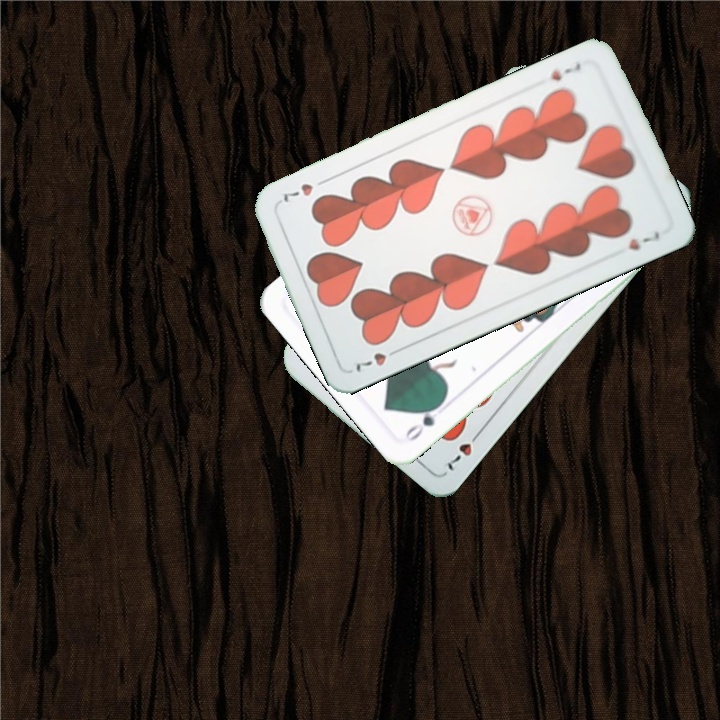GO: (401, 397, 446, 444)
H7: (441, 425, 485, 474), (351, 343, 404, 375), (546, 59, 584, 84)
